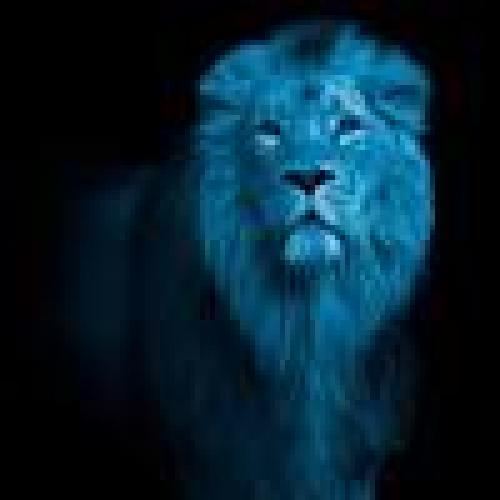lion-endangered: (75, 30, 425, 500)
